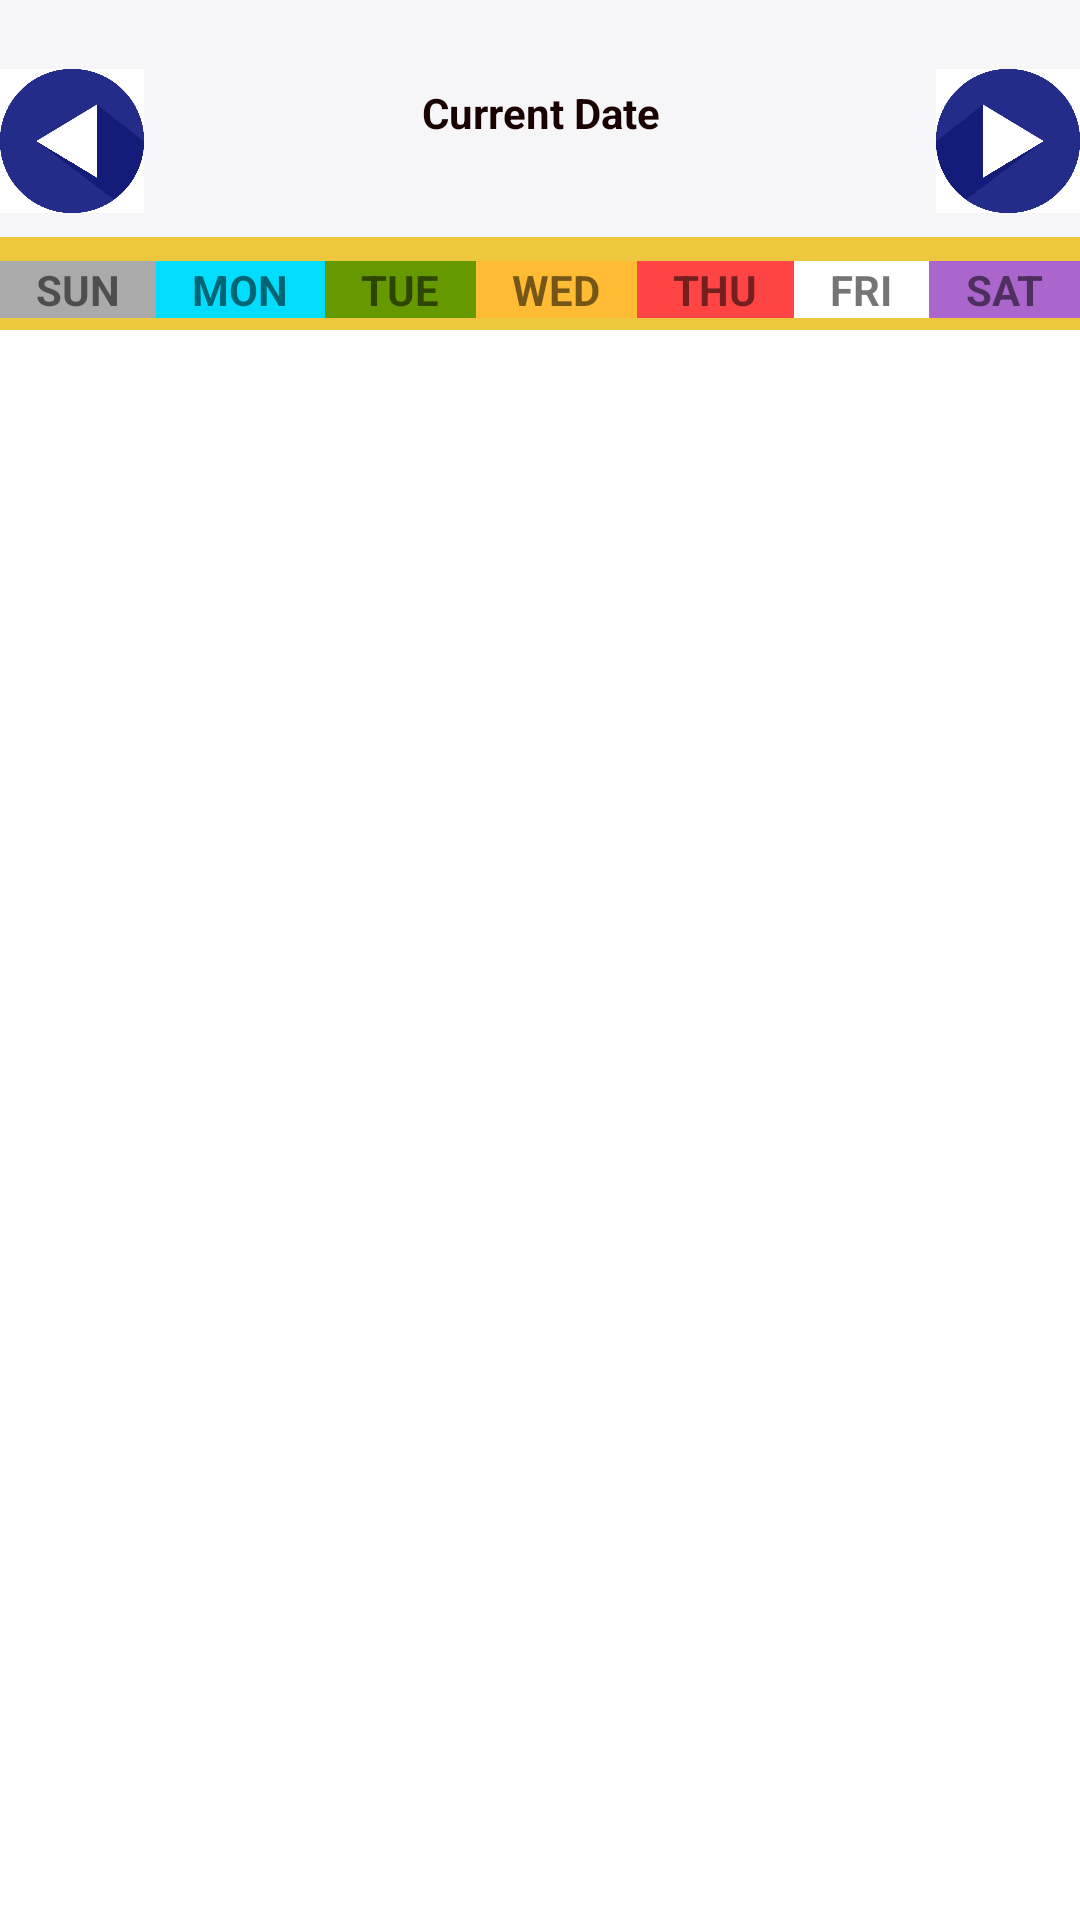

Named icons in this screenshot (1080 × 1920) and their bounding boxes, (left=x1, top=y1, right=x2, bottom=y2):
next: (left=936, top=69, right=1080, bottom=213)
previous: (left=0, top=69, right=144, bottom=213)
